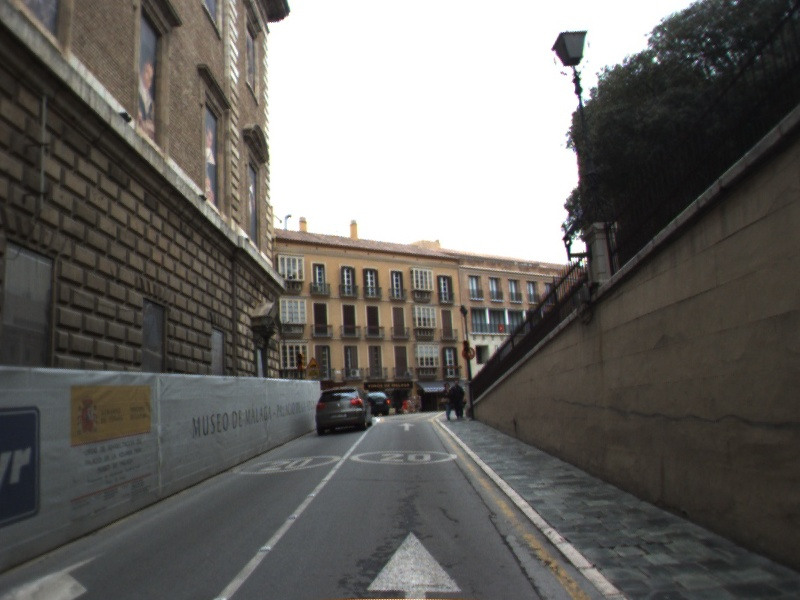STRAIGHT: (396, 421, 417, 433)
